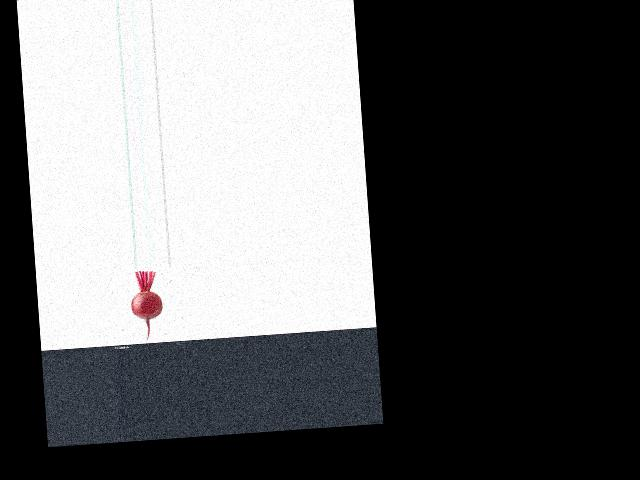beet: (129, 269, 165, 342)
